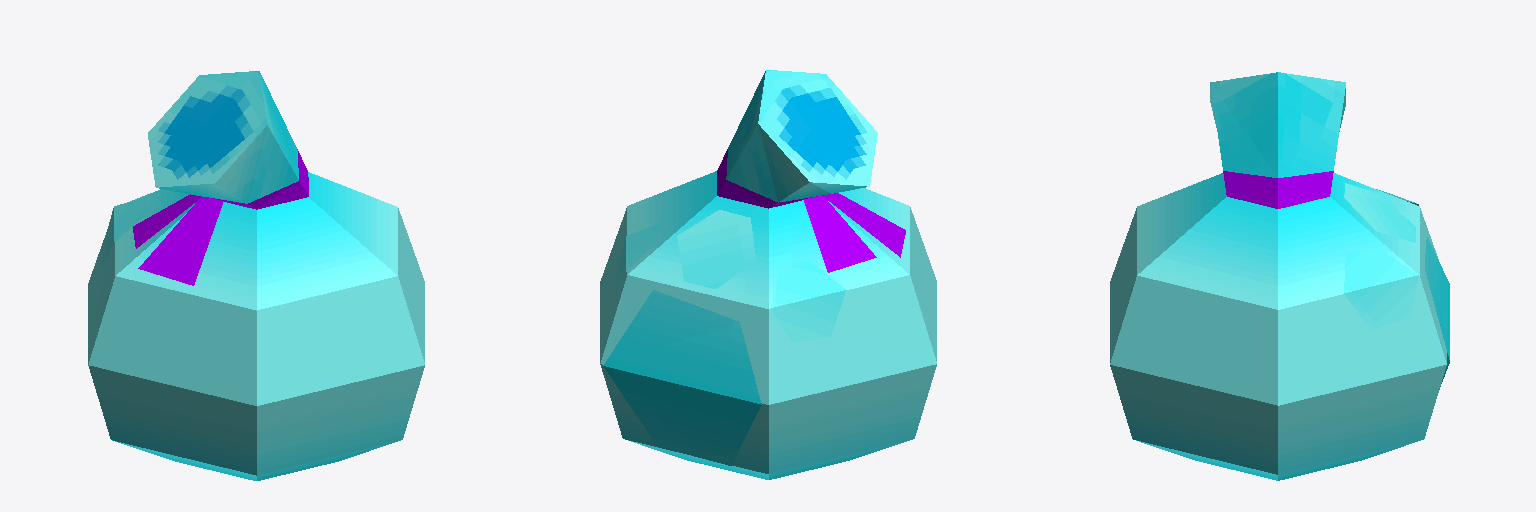
The picture shows the model from 3 angles: view 1: azimuth 30°, elevation 25°; view 2: azimuth 150°, elevation 25°; view 3: azimuth 270°, elevation 25°; orthographic projection.
Parts seen in each view (by area): view 1: DiamondBagTier11; view 2: DiamondBagTier11; view 3: DiamondBagTier11.
Part boxes in pixels (left/top/right/bottom): DiamondBagTier11: left=88, top=71, right=424, bottom=480; DiamondBagTier11: left=600, top=70, right=936, bottom=479; DiamondBagTier11: left=1110, top=72, right=1449, bottom=480.
Bounding box in the file's own units: 3.18 × 3.34 × 2.78.
Materials: 1 (1 with a texture image).